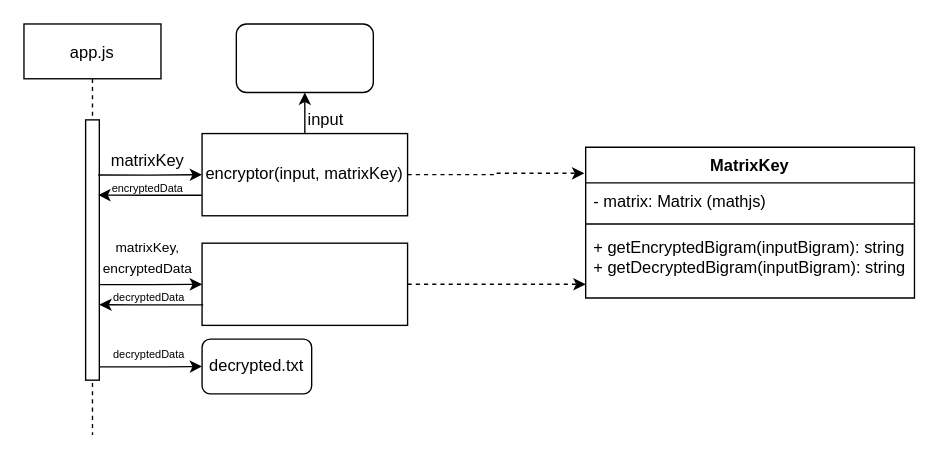
This 938x459 diagram has some shape labels left out. The centre of each missing label's shape, as x and y in pixels:
decryptor(encryptedData, matrixKey): point 304,283
textToEncrypt.txt: point 304,57
